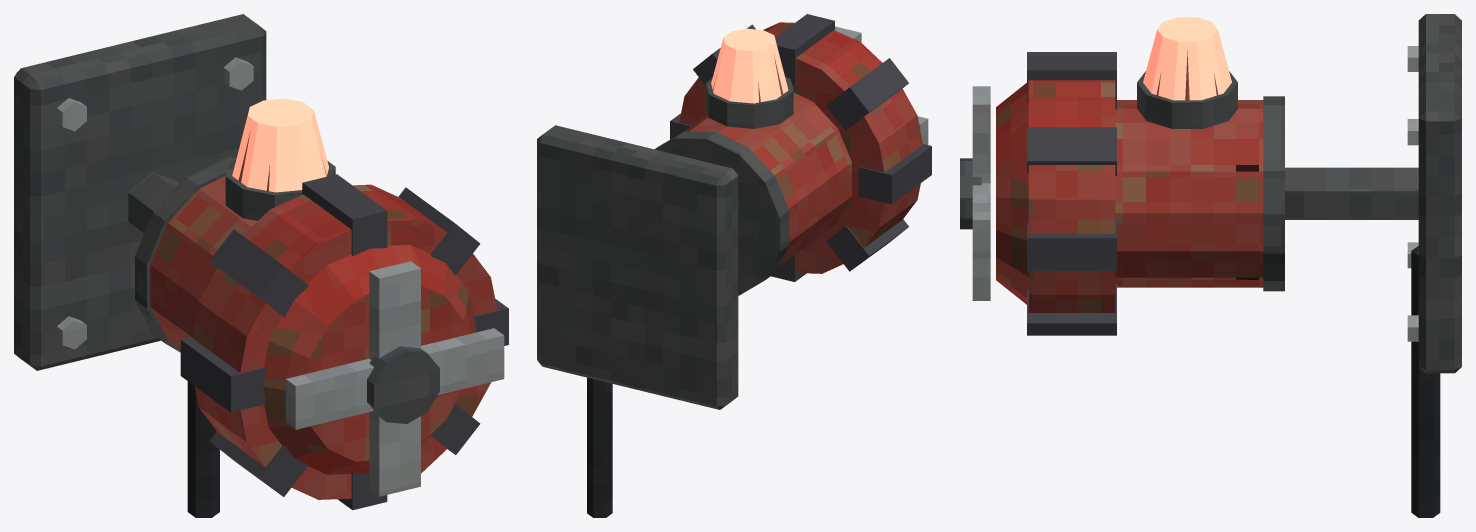
File: siren.glb
3 renders of one model, left to right at view 1: azimuth 30°, elevation 25°; view 2: azimuth 150°, elevation 25°; view 3: azimuth 270°, elevation 25°, orthographic. The views are drawn at different scales.
Parts seen in each view (by area): view 1: body, rotor, lamp_on; view 2: body, lamp_on; view 3: body, lamp_on, rotor.
Boxes of the visible parts, left/top/right/bottom form: body: left=14, top=14, right=508, bottom=517; rotor: left=285, top=261, right=504, bottom=496; lamp_on: left=232, top=98, right=328, bottom=192; body: left=537, top=14, right=931, bottom=517; lamp_on: left=711, top=28, right=788, bottom=103; body: left=996, top=14, right=1461, bottom=517; lamp_on: left=1143, top=17, right=1231, bottom=100; rotor: left=960, top=86, right=990, bottom=300.
Bounding box in the file's own units: 0.4 × 0.701 × 0.695.
7 materials, 4 textured.
